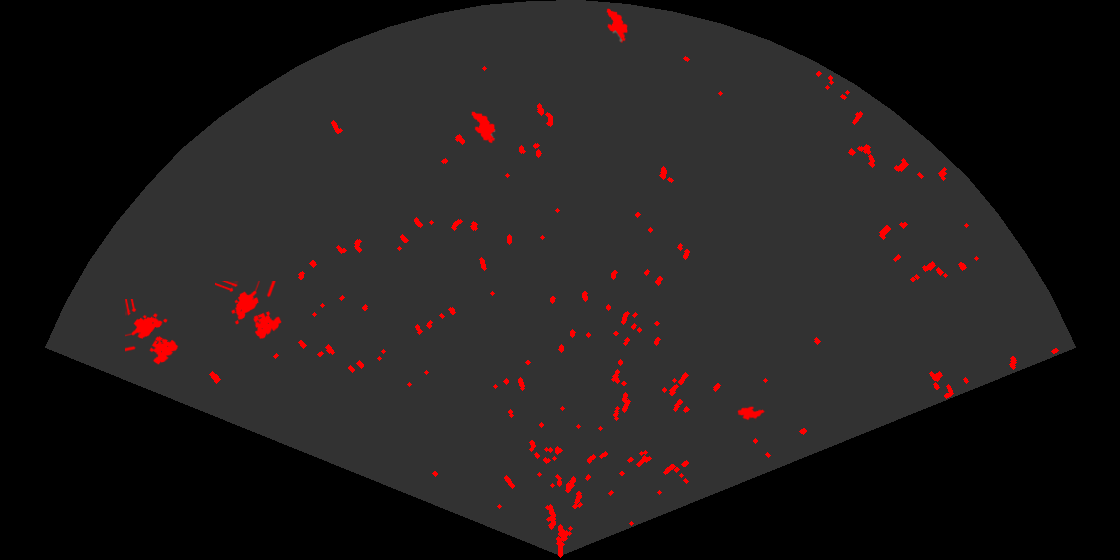AUV: (470, 110, 497, 145), (605, 7, 629, 45), (736, 405, 766, 422)
cage: (215, 281, 283, 341), (125, 299, 180, 366)
